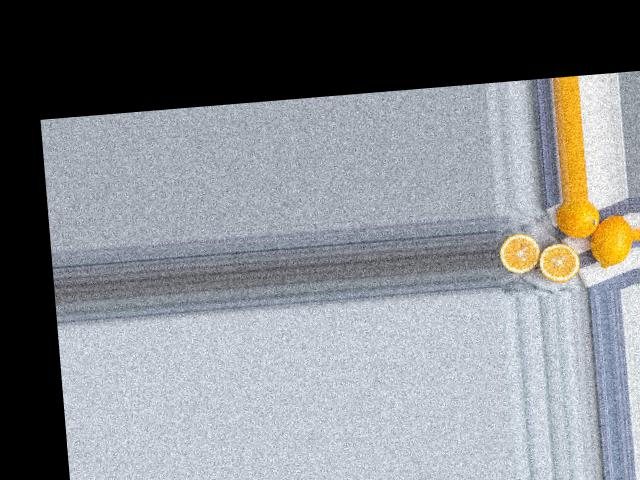lemon: (559, 199, 600, 238)
